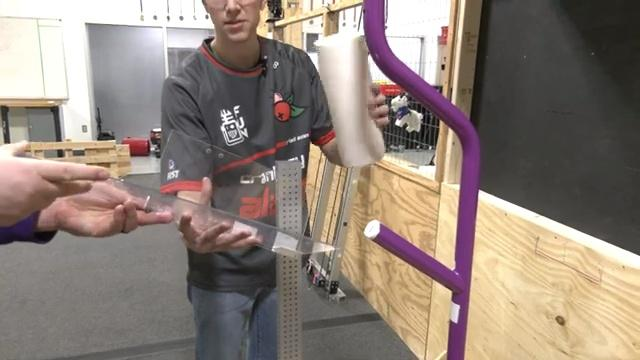CORAL: (315, 29, 386, 167)
